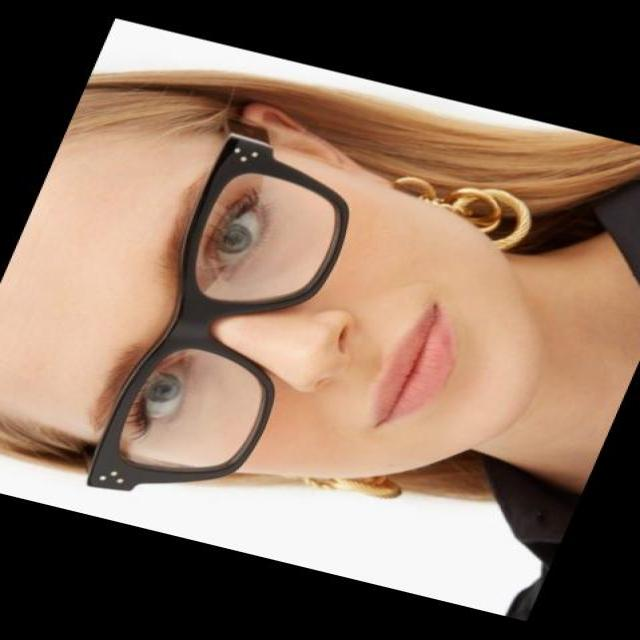glasses: (69, 114, 381, 516)
